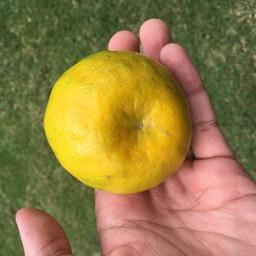Good_orange: (43, 46, 193, 192)
